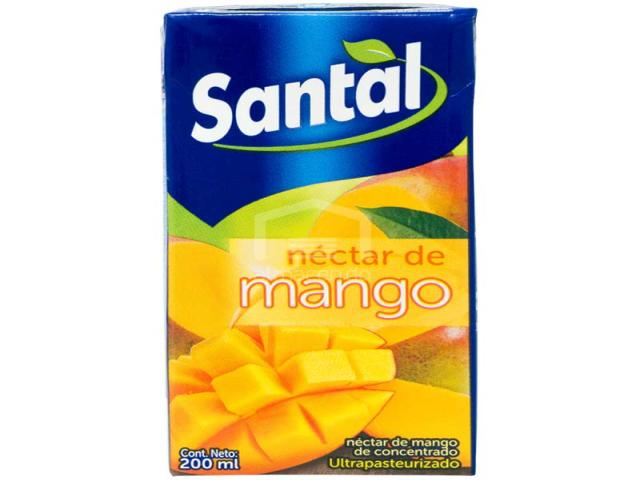drink_box: (157, 3, 482, 480)
